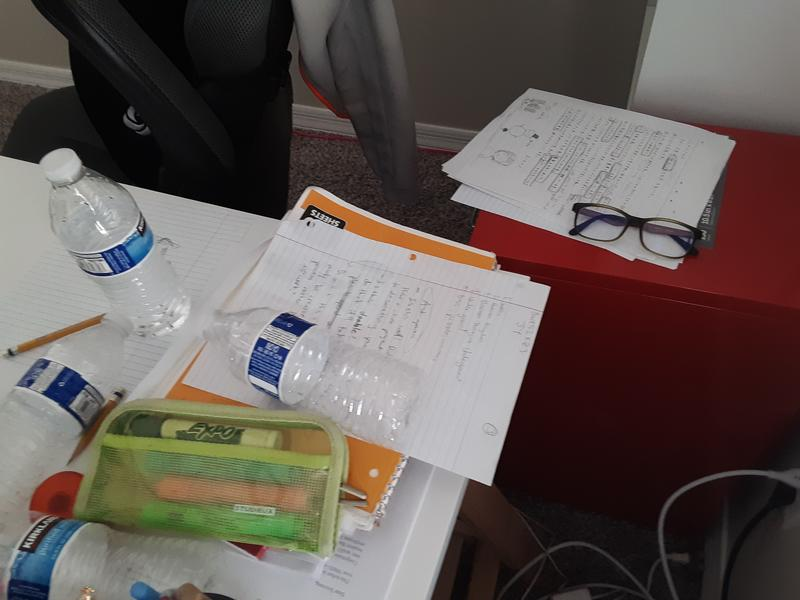glasses: (567, 199, 705, 262)
